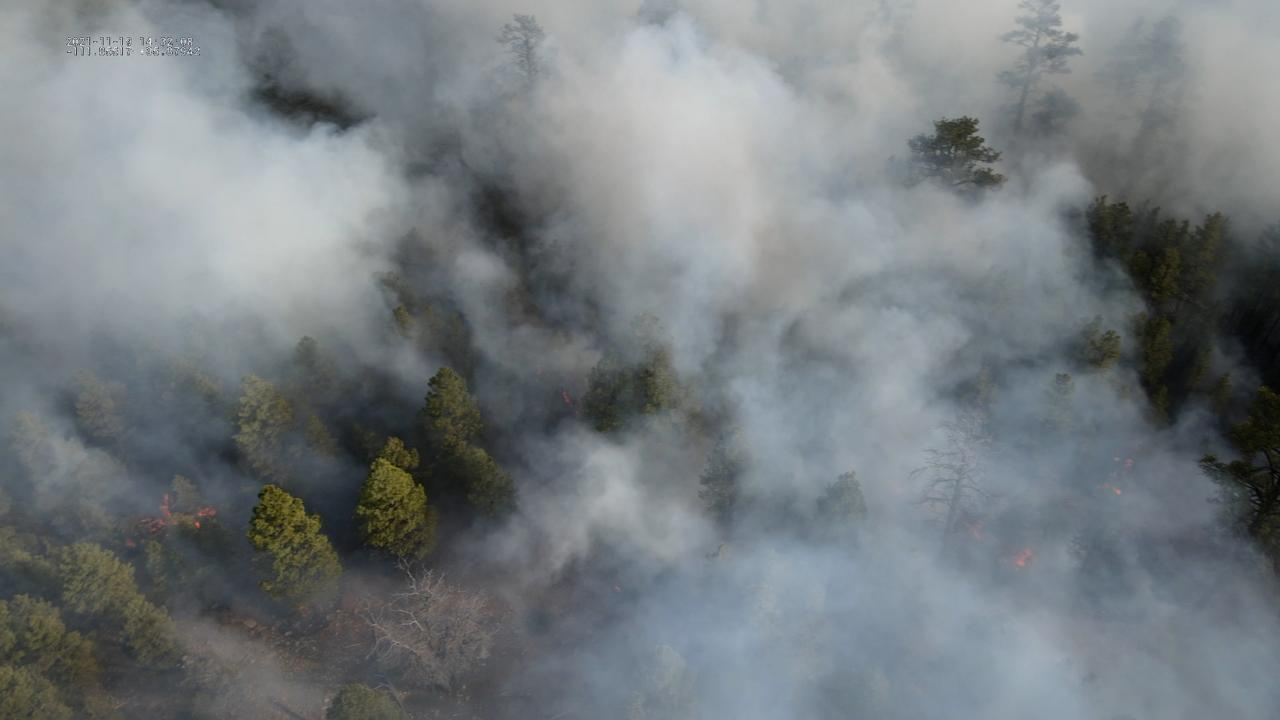fire: (122, 493, 218, 549), (1012, 547, 1034, 569), (561, 389, 572, 405), (1095, 481, 1110, 490), (1112, 487, 1122, 496)
smoke: (0, 0, 1280, 720)
